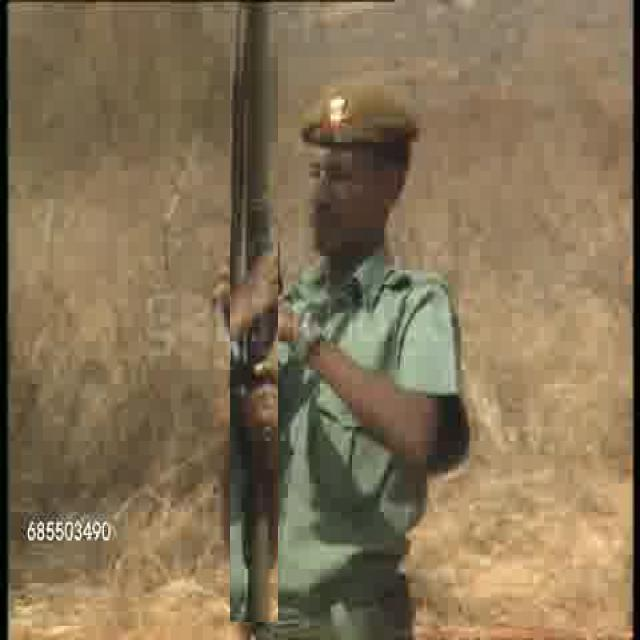poacher: (290, 62, 462, 615)
weapon: (230, 2, 278, 622)
